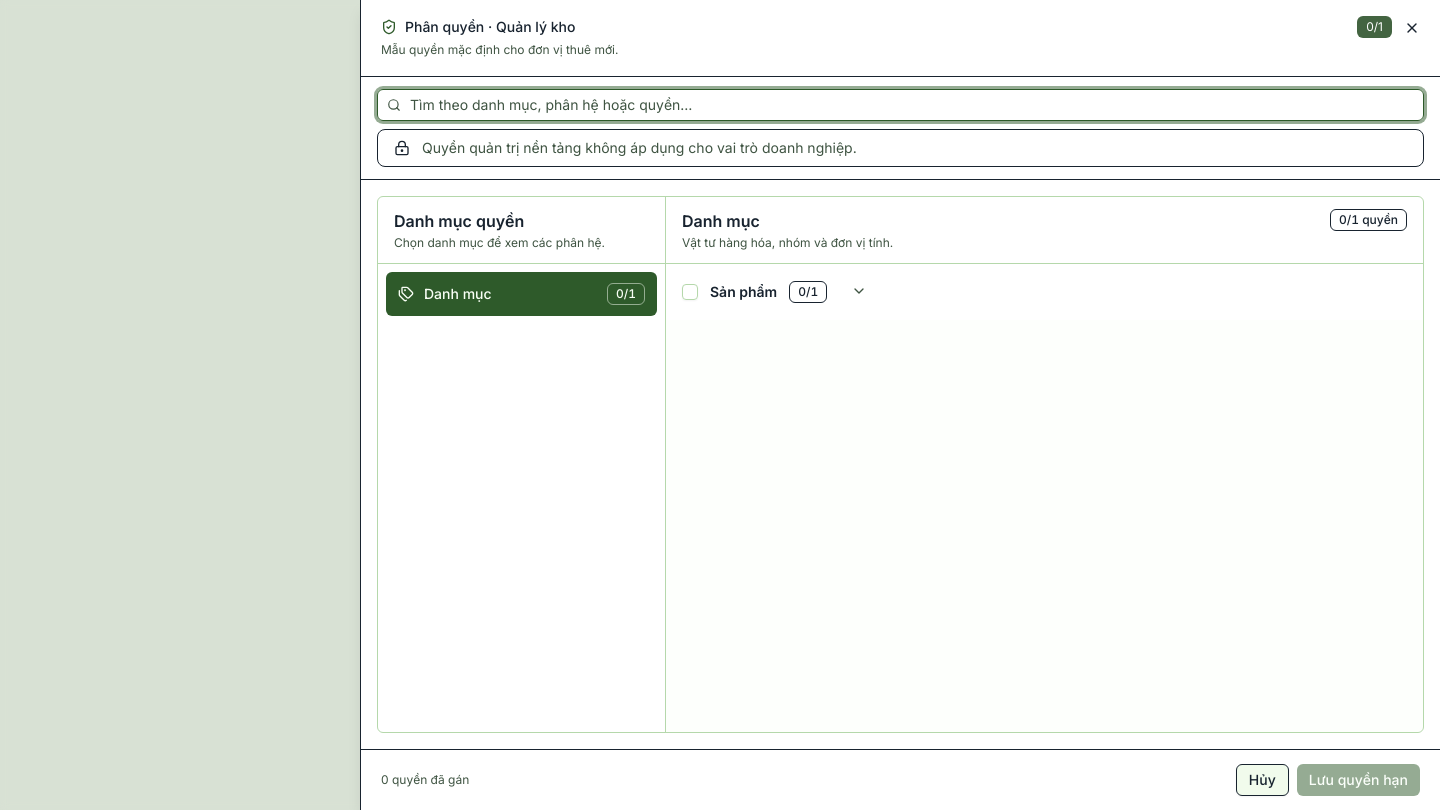
Test: RolePermissionsSheet › asks before discarding a changed permission draft
The width and height of the screenshot is (1440, 810).
Click the button "Sản phẩm 0/1". click: (789, 292)
box: [710,268,867,314]
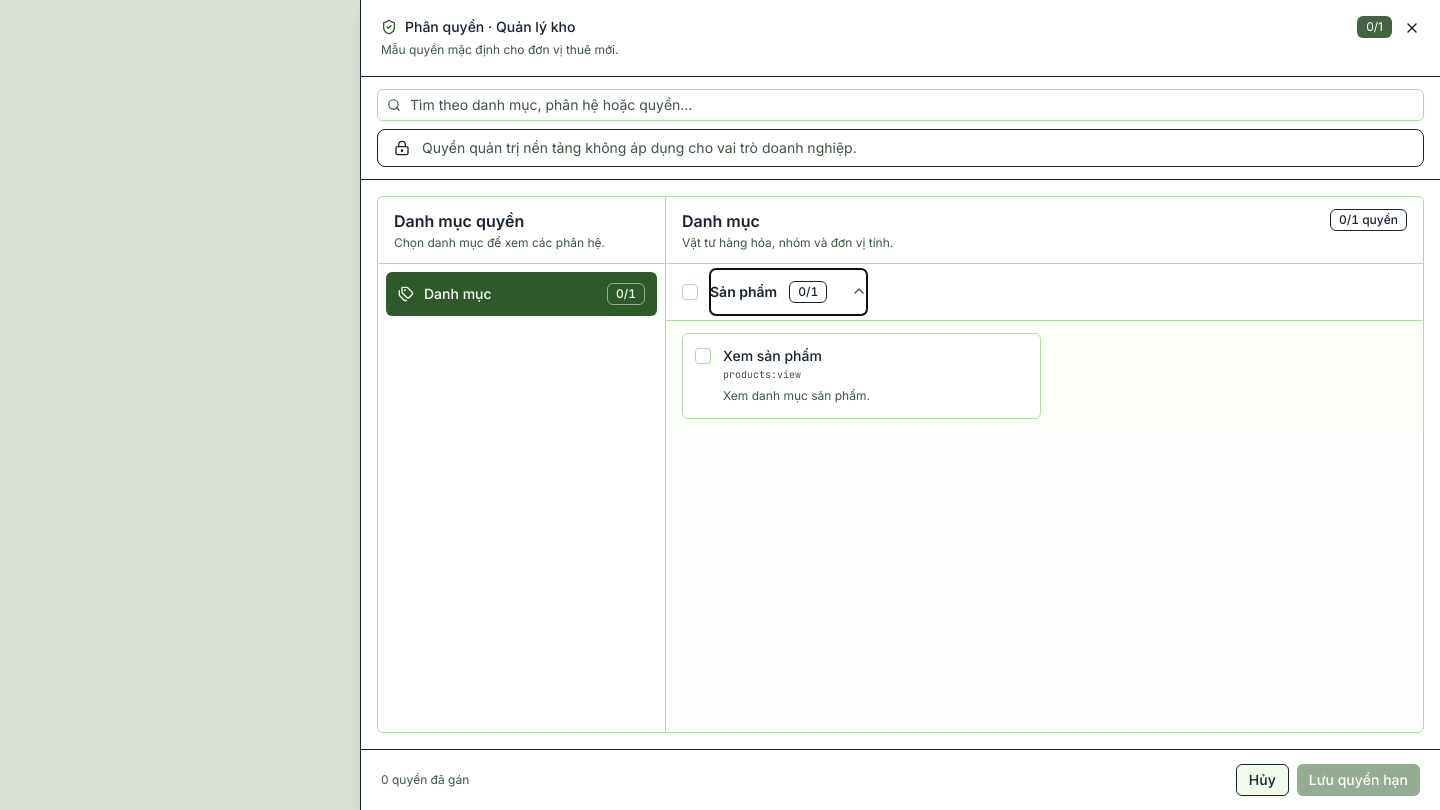
Click the checkbox named "Xem sản phẩm". click: (703, 356)
box: [695,348,711,364]
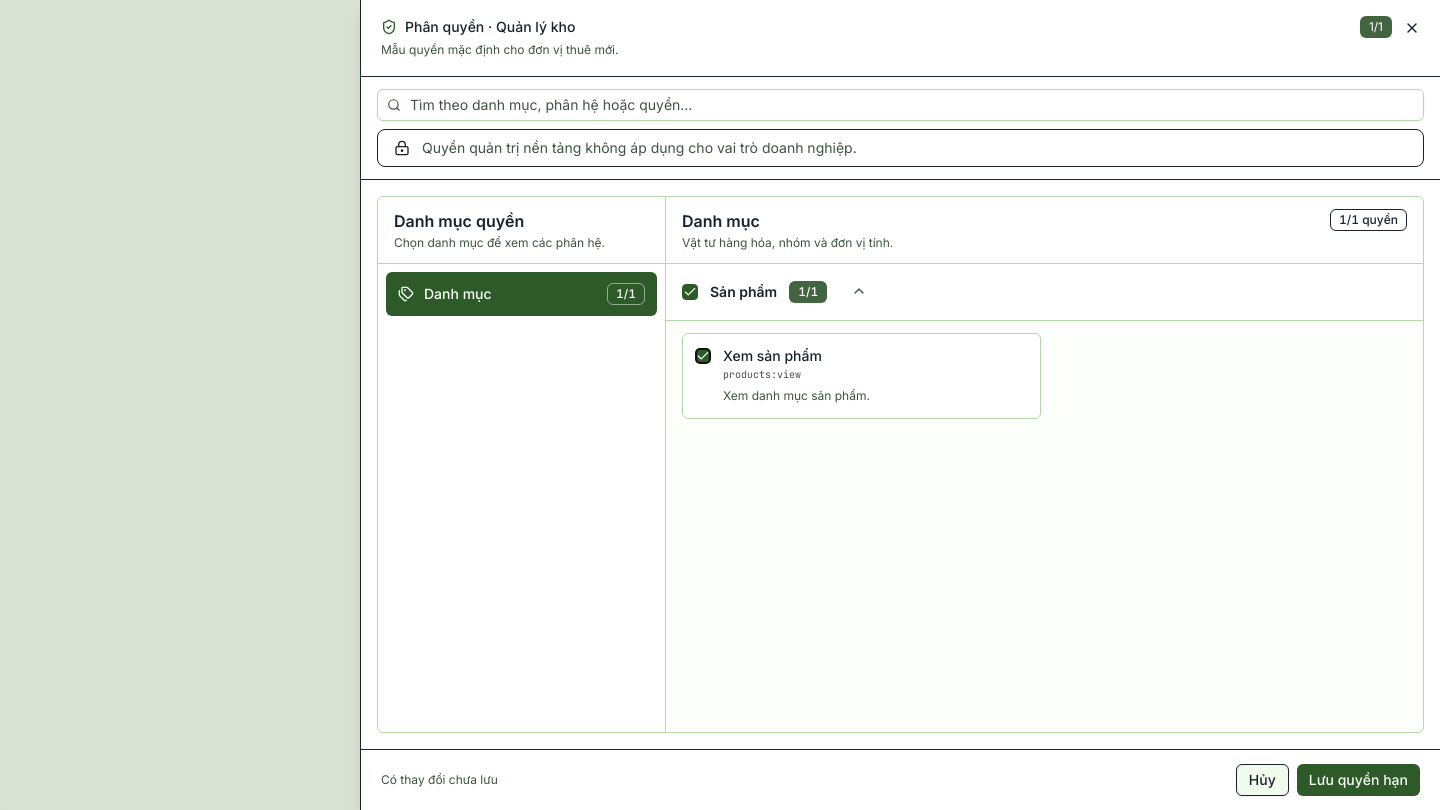
Click the button "Hủy". click: (1262, 780)
box: [1236,764,1289,796]
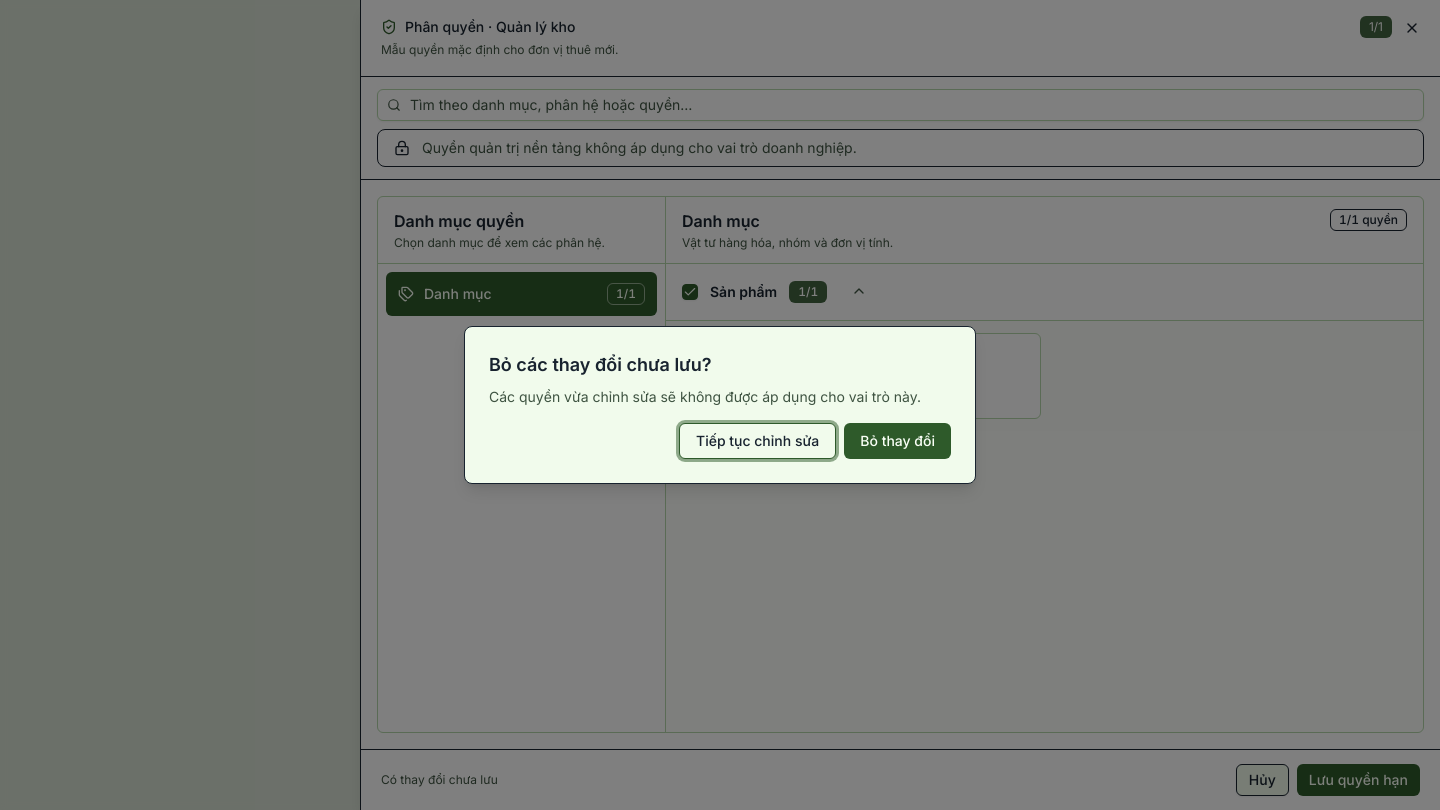
Expected: the dialog that starts with "Bỏ các thay đổi chưa lưu?" is shown, [464,326,976,484]
Expected: the heading "Bỏ các thay đổi chưa lưu?" is shown, [489,354,712,375]
